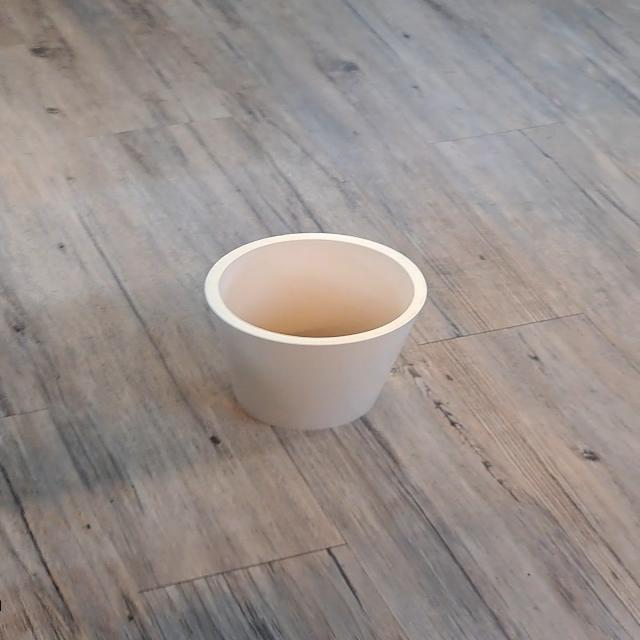CORAL: (167, 194, 482, 449)
